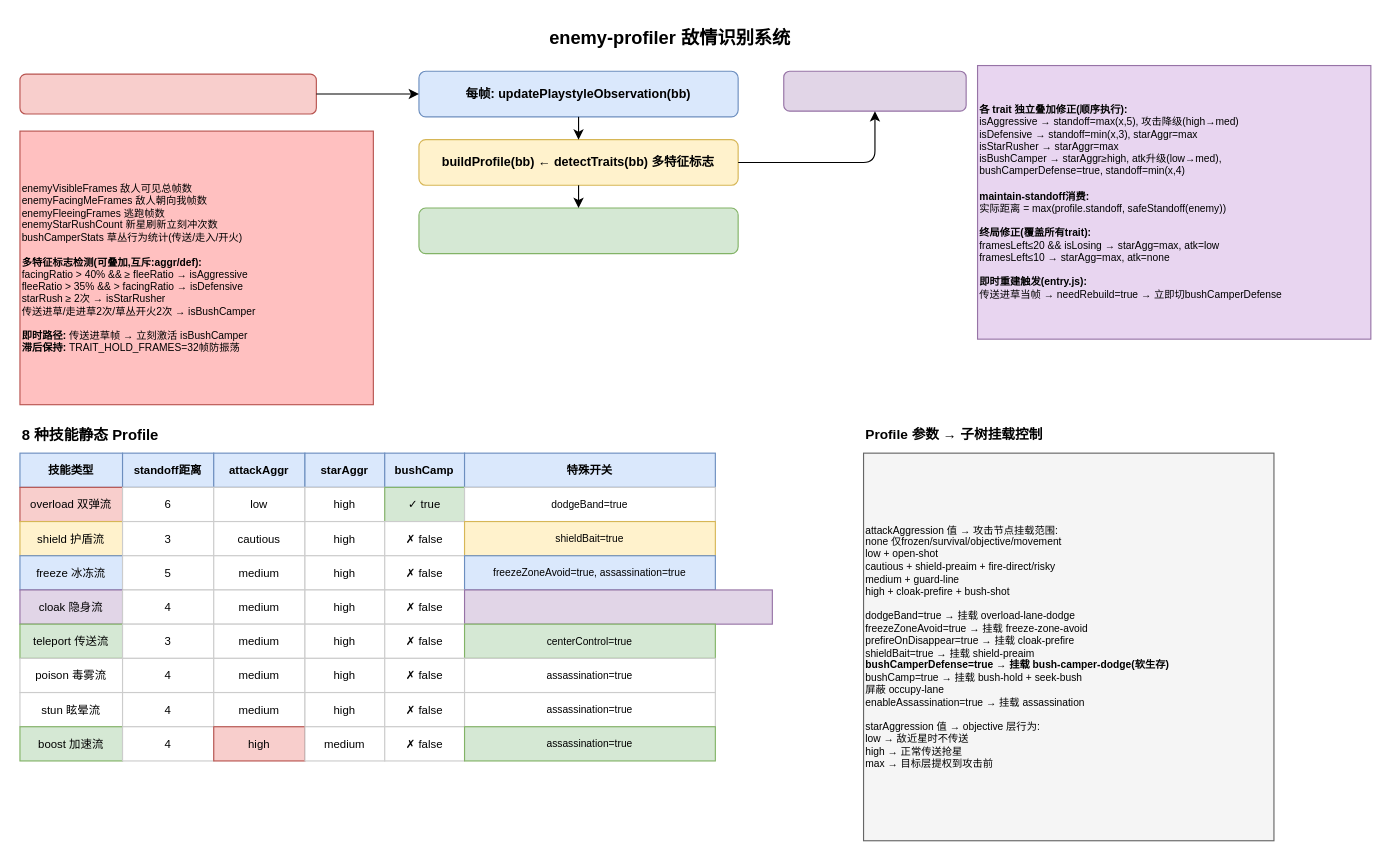
Some shapes in this 1391 by 861 pixel diagram are drawn without their labels. Each missing label, with the box of its shape:
tree-factory.js 按 profile 组装子树: (418, 207, 738, 254)
zigzagEscape=true, prefireOnDisappear=true, assassination=true: (463, 589, 772, 624)
动态打法修正: (783, 70, 966, 111)
打法风格观察 (memory._profiler): (19, 73, 316, 114)
